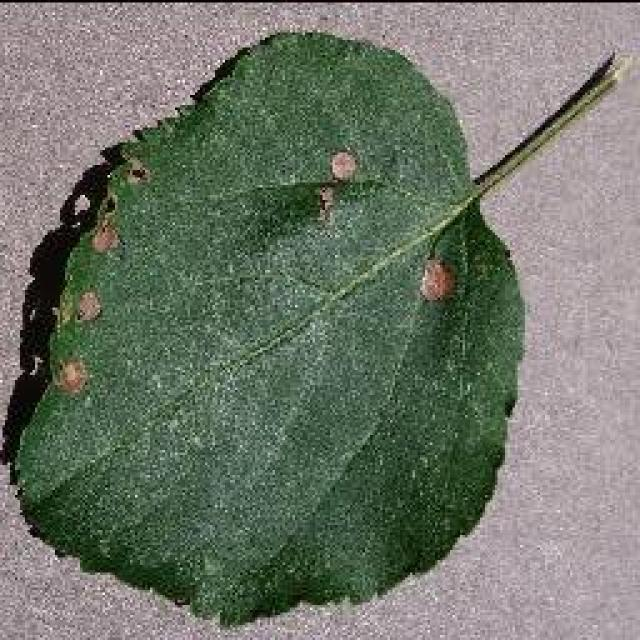Black_rot: (2, 28, 628, 628)
